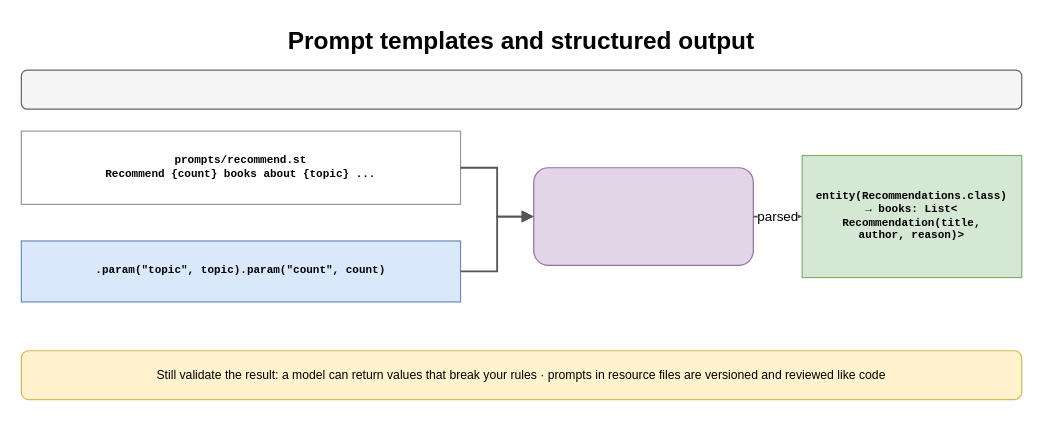
Some shapes in this 1043 by 421 pixel diagram are drawn without their labels. The centre of each missing label's shape, as x and y in pixels:
"model + format instructions with a JSON schema" goes at (x=643, y=216).
"Template parameters in, a parsed record out" goes at (x=521, y=89).
